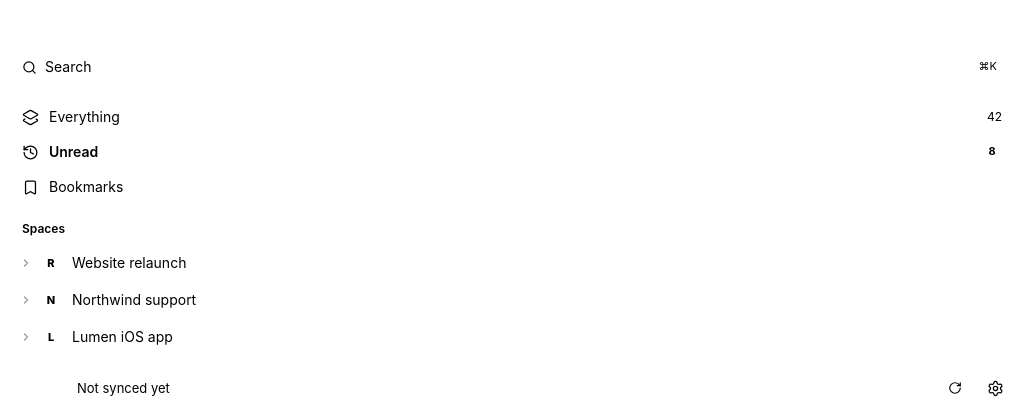
Test: Sidebar › Space context menu › opens a menu named after the Space with Rename, Icon and Color, Client label, Space Settings and Stop tracking
Check: the navigation bar "Spaces" is shown, box [12, 220, 1012, 355]
Right-click the button "Website relaunch": (129, 263) [72, 245, 972, 281]
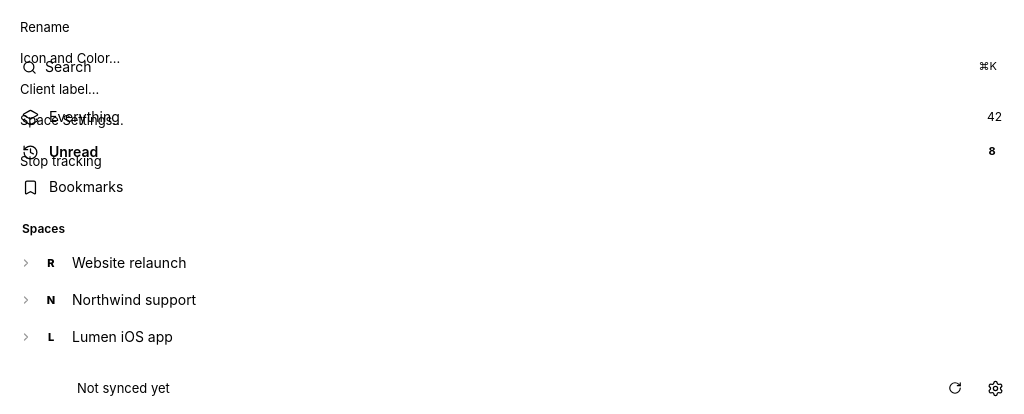
Check: the menu named "Website relaunch" is shown, box [6, 6, 206, 182]
